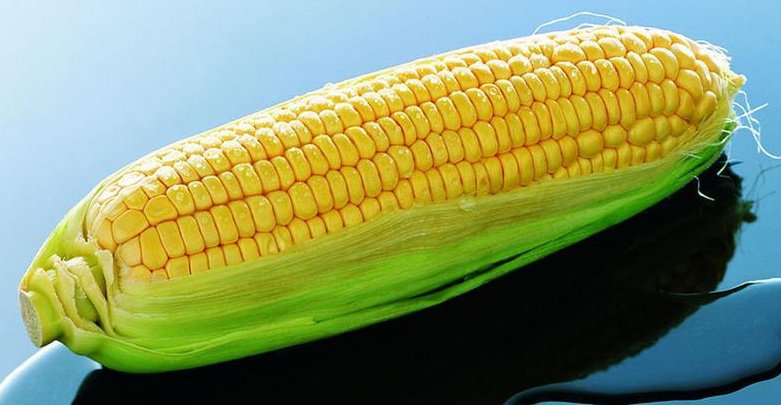corn: (25, 16, 730, 380)
